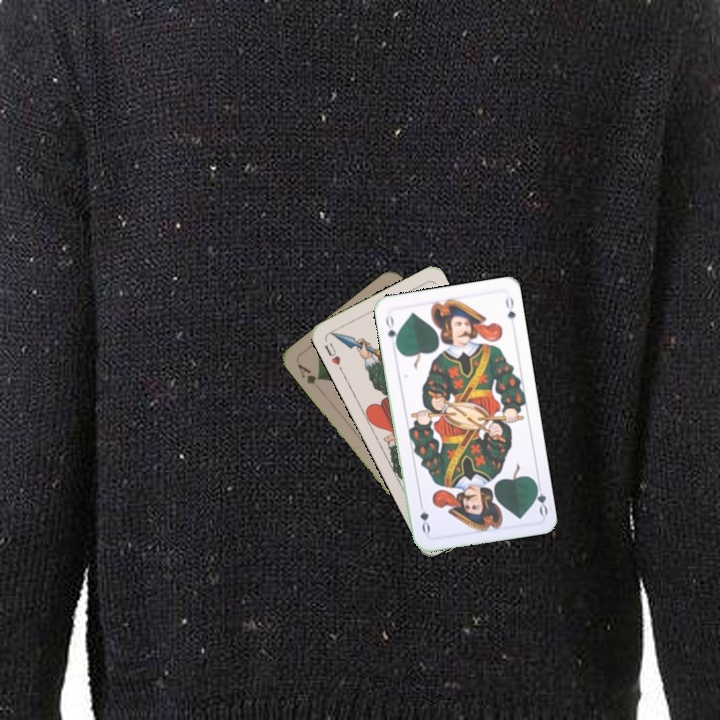GA: (293, 359, 324, 393)
GO: (530, 477, 550, 518), (381, 311, 401, 350)
HU: (320, 338, 343, 368)
